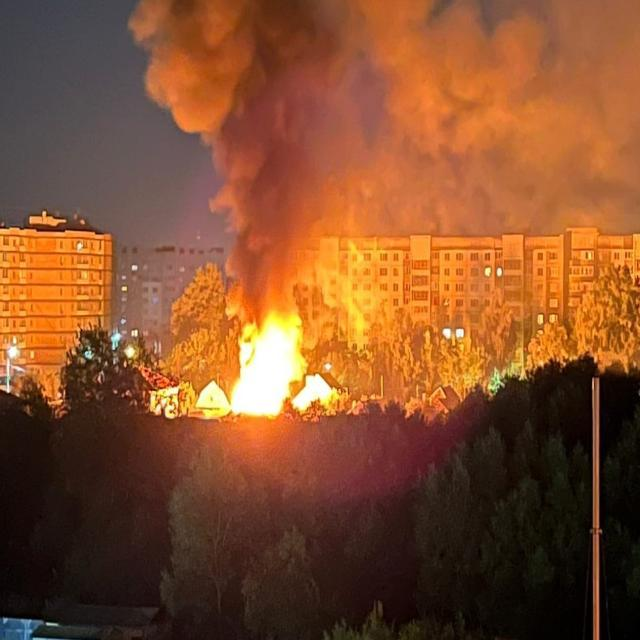Fire: (228, 313, 306, 420)
Smoke: (128, 0, 640, 323)
